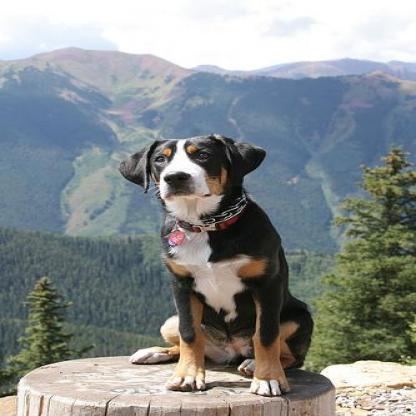Greater_Swiss_Mountain_dog: (118, 132, 312, 396)
